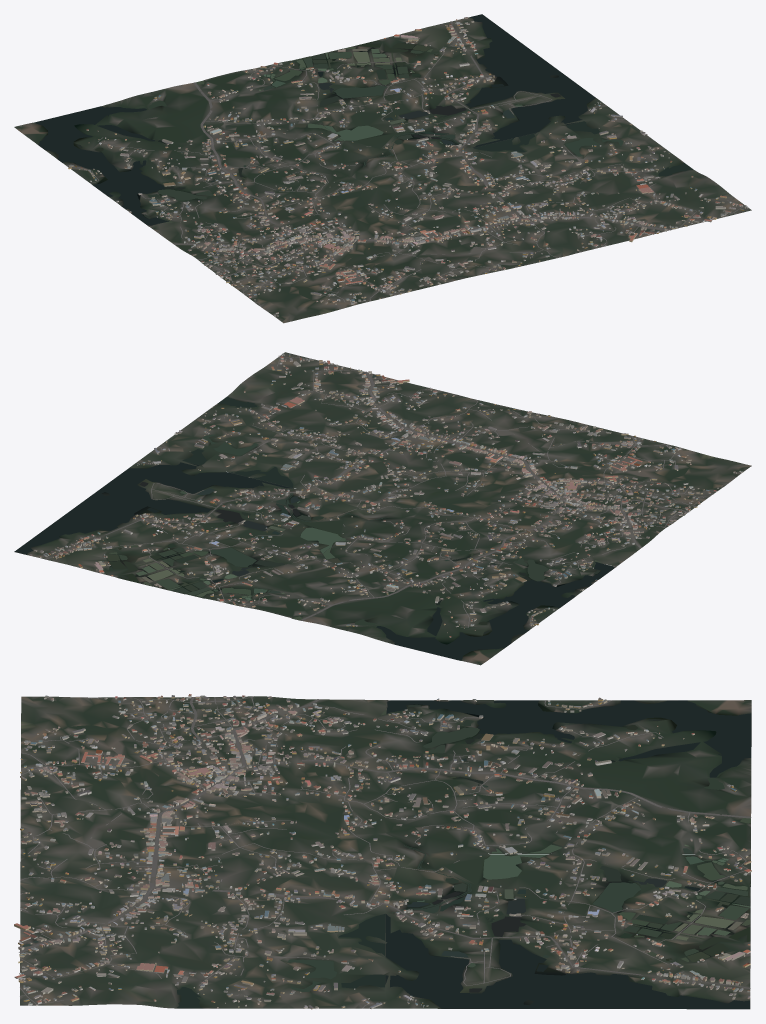
3 renders of one model, top to bottom at view 1: azimuth 30°, elevation 25°; view 2: azimuth 150°, elevation 25°; view 3: azimuth 270°, elevation 25°, orthographic. The views are drawn at different scales.
Visible parts, largest first — view 1: ground, buildings, water, roads; view 2: ground, buildings, water, roads; view 3: ground, buildings, water, roads.
Part boxes in pixels (x1,y1,x2,y2): ground: (14, 17, 751, 323); buildings: (68, 17, 748, 316); water: (34, 14, 693, 231); roads: (67, 21, 744, 306); ground: (15, 352, 751, 665); buildings: (29, 353, 743, 637); water: (14, 375, 613, 660); roads: (45, 356, 728, 627); ground: (20, 696, 751, 1009); buildings: (14, 694, 751, 1009); water: (22, 700, 751, 1008); roads: (19, 696, 751, 1008).
Bounding box in the file's own units: 2816 × 35.62 × 2833.
